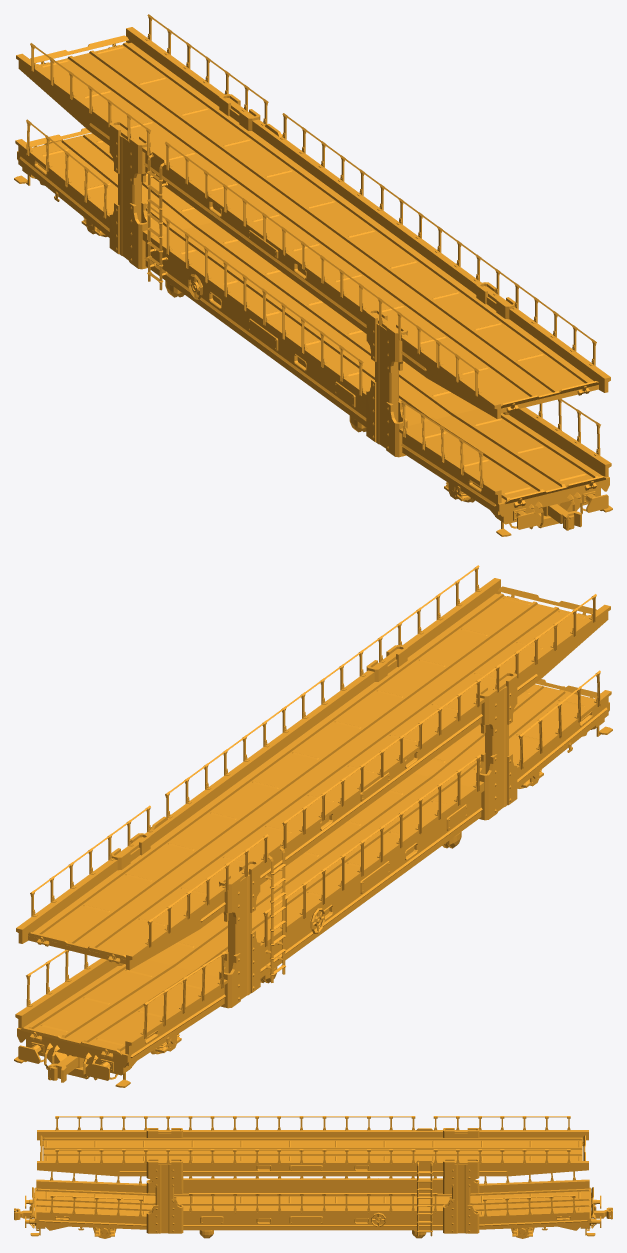
File: SM_Train_Wagon_Cars.fbx
The picture shows the model from 3 angles, top to bottom: view 1: azimuth 30°, elevation 25°; view 2: azimuth 150°, elevation 25°; view 3: azimuth 270°, elevation 25°; orthographic projection. The views are drawn at different scales.
Visible parts, largest first — view 1: SM_Train_Wagon_Cars_Base; view 2: SM_Train_Wagon_Cars_Base; view 3: SM_Train_Wagon_Cars_Base, SM_Train_Wagon_Cars_Base_Chassis_B, SM_Train_Wagon_Cars_Base_Chassis_F.
Boxes of the visible parts, x1,y1,x2,y2 form: SM_Train_Wagon_Cars_Base: (14, 14, 612, 536); SM_Train_Wagon_Cars_Base: (14, 565, 612, 1087); SM_Train_Wagon_Cars_Base: (25, 1116, 601, 1238); SM_Train_Wagon_Cars_Base_Chassis_B: (512, 1227, 532, 1238); SM_Train_Wagon_Cars_Base_Chassis_F: (94, 1227, 114, 1238).
Size of the model in its own units: 3.39 by 4.32 by 23.87.
